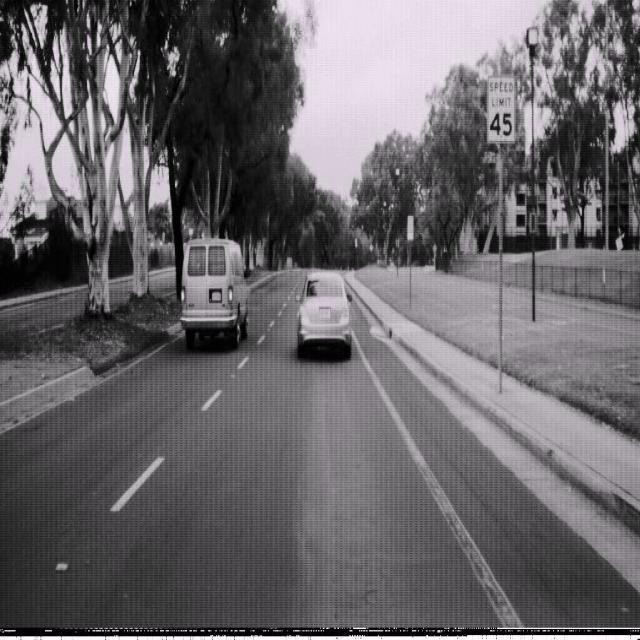speedLimit45: (486, 74, 516, 144)
